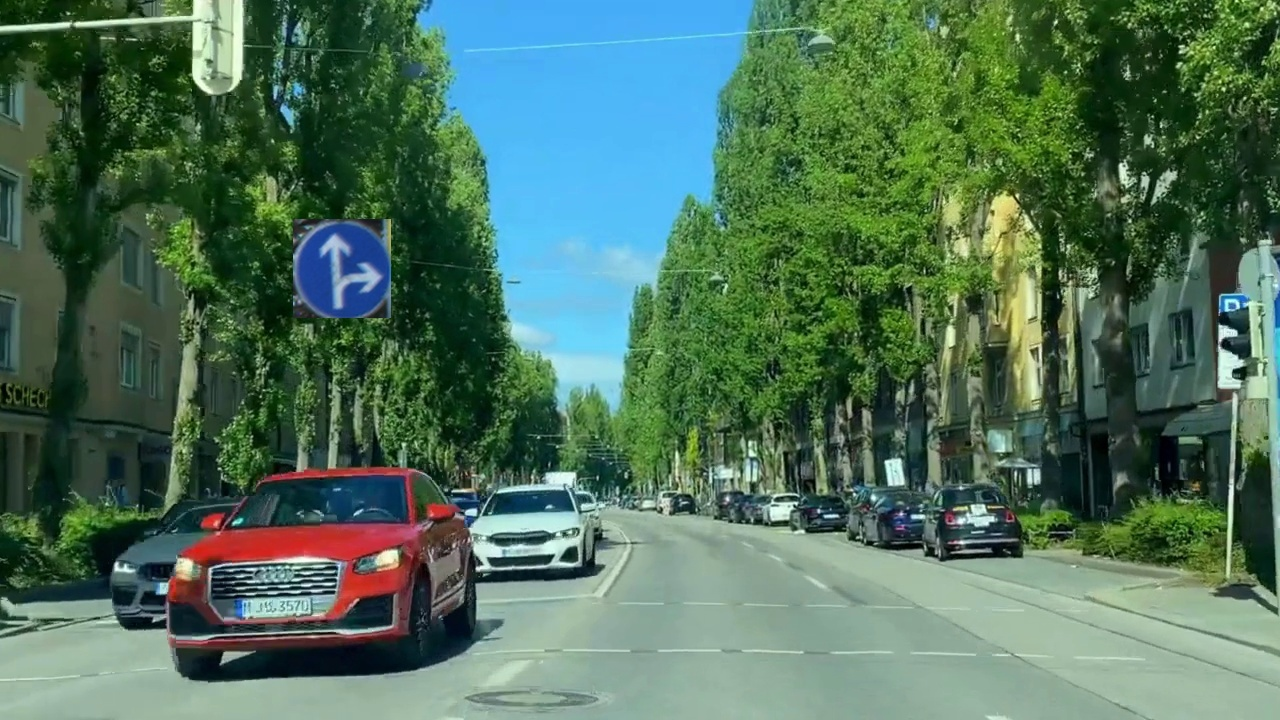Straight/right: (293, 219, 391, 318)
